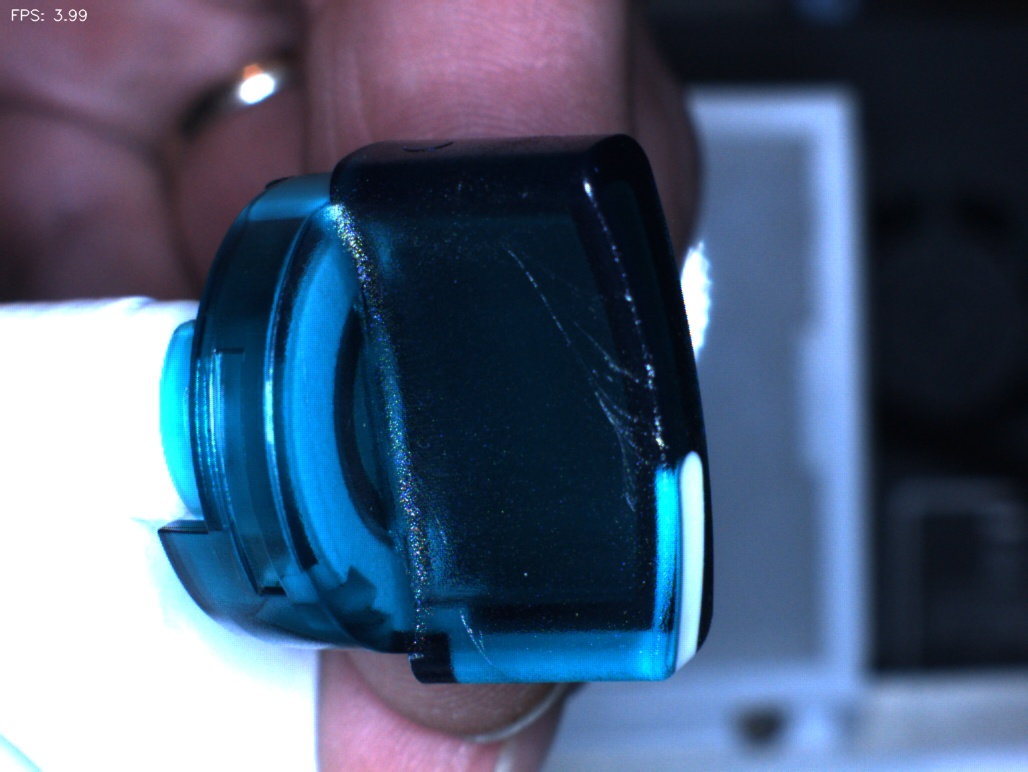Givrage: (505, 262, 664, 505)
